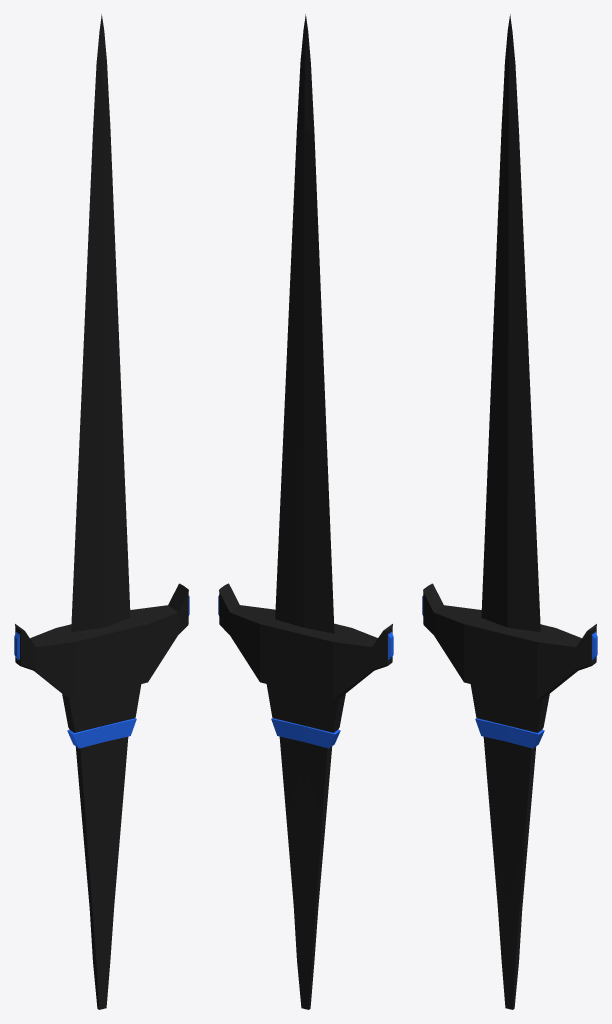
The model's file is LaserSword.fbx.
The picture shows the model from 3 angles, left to right: view 1: azimuth 30°, elevation 25°; view 2: azimuth 150°, elevation 25°; view 3: azimuth 330°, elevation 25°; orthographic projection.
Visible parts, largest first — view 1: Cube.002; view 2: Cube.002; view 3: Cube.002.
Part boxes in pixels (left/top/right/bottom): Cube.002: left=14, top=14, right=189, bottom=1009; Cube.002: left=218, top=14, right=393, bottom=1009; Cube.002: left=422, top=14, right=597, bottom=1009.
Bounding box in the file's own units: 1.15 × 0.2213 × 6.35.
1 material, 1 textured.
